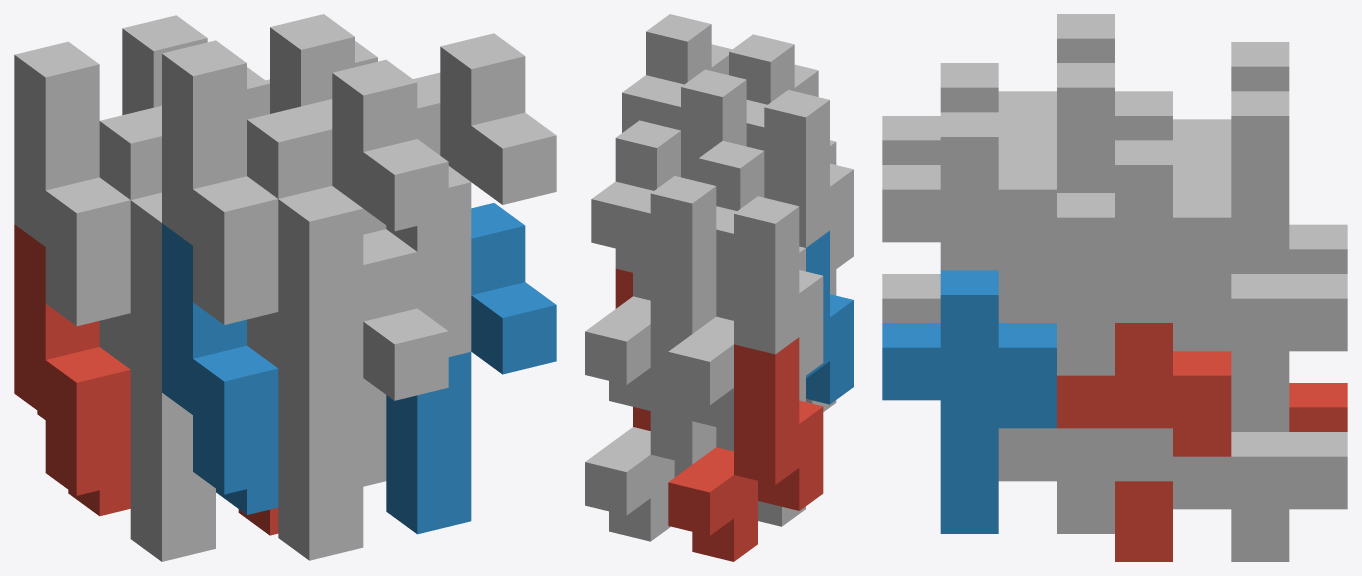
File: tiling.obj
3 renders of one model, left to right at view 1: azimuth 30°, elevation 25°; view 2: azimuth 150°, elevation 25°; view 3: azimuth 270°, elevation 25°, orthographic. The views are drawn at different scales.
Visible parts, largest first — view 1: copy_2_domain_4, copy_2_domain_2, copy_1_domain_3, copy_1_domain_4, copy_2_domain_8, copy_2_domain_6, copy_1_domain_1, copy_1_domain_2, copy_2_domain_1, copy_2_domain_3, copy_1_domain_8, copy_1_domain_7 (+1 smaller); view 2: copy_1_domain_1, copy_1_domain_3, copy_1_domain_7, copy_1_domain_5, copy_1_domain_4, copy_2_domain_7, copy_2_domain_8, copy_2_domain_3, copy_1_domain_8, copy_2_domain_4, copy_1_domain_2, copy_2_domain_1 (+1 smaller); view 3: copy_2_domain_6, copy_1_domain_7, copy_2_domain_8, copy_2_domain_5, copy_1_domain_8, copy_2_domain_7, copy_1_domain_5, copy_1_domain_6, copy_2_domain_4, copy_1_domain_3, copy_2_domain_3, copy_1_domain_1 (+2 smaller).
Part boxes in pixels (x1,y1,x2,y2): copy_2_domain_4: (247, 59, 448, 391); copy_2_domain_2: (247, 229, 448, 560); copy_1_domain_3: (14, 41, 130, 326); copy_1_domain_4: (162, 40, 278, 324); copy_2_domain_8: (386, 33, 556, 356); copy_2_domain_6: (386, 203, 556, 534); copy_1_domain_1: (14, 224, 130, 516); copy_1_domain_2: (162, 223, 278, 514); copy_2_domain_1: (99, 313, 215, 561); copy_2_domain_3: (99, 67, 269, 392); copy_1_domain_8: (270, 14, 386, 234); copy_1_domain_7: (122, 15, 207, 115); copy_1_domain_1: (668, 337, 823, 561); copy_1_domain_3: (668, 196, 823, 431); copy_1_domain_7: (585, 176, 716, 410); copy_1_domain_5: (585, 324, 716, 541); copy_1_domain_4: (764, 90, 853, 273); copy_2_domain_7: (591, 120, 680, 300); copy_2_domain_8: (622, 14, 731, 132); copy_2_domain_3: (698, 141, 805, 382); copy_1_domain_8: (615, 69, 746, 272); copy_2_domain_4: (729, 34, 836, 276); copy_1_domain_2: (806, 230, 853, 404); copy_2_domain_1: (716, 379, 805, 526); copy_2_domain_6: (882, 270, 1056, 533); copy_1_domain_7: (1173, 91, 1347, 403); copy_2_domain_8: (882, 112, 1056, 270); copy_2_domain_5: (1057, 323, 1231, 561); copy_1_domain_8: (998, 63, 1172, 375); copy_2_domain_7: (1057, 140, 1231, 298); copy_1_domain_5: (1173, 404, 1347, 561); copy_1_domain_6: (998, 428, 1172, 533); copy_2_domain_4: (882, 63, 1056, 164); copy_1_domain_3: (1231, 42, 1347, 273); copy_2_domain_3: (1115, 91, 1231, 168); copy_1_domain_1: (1289, 383, 1347, 431).
Size of the model in its own units: 6 by 9 by 8.
